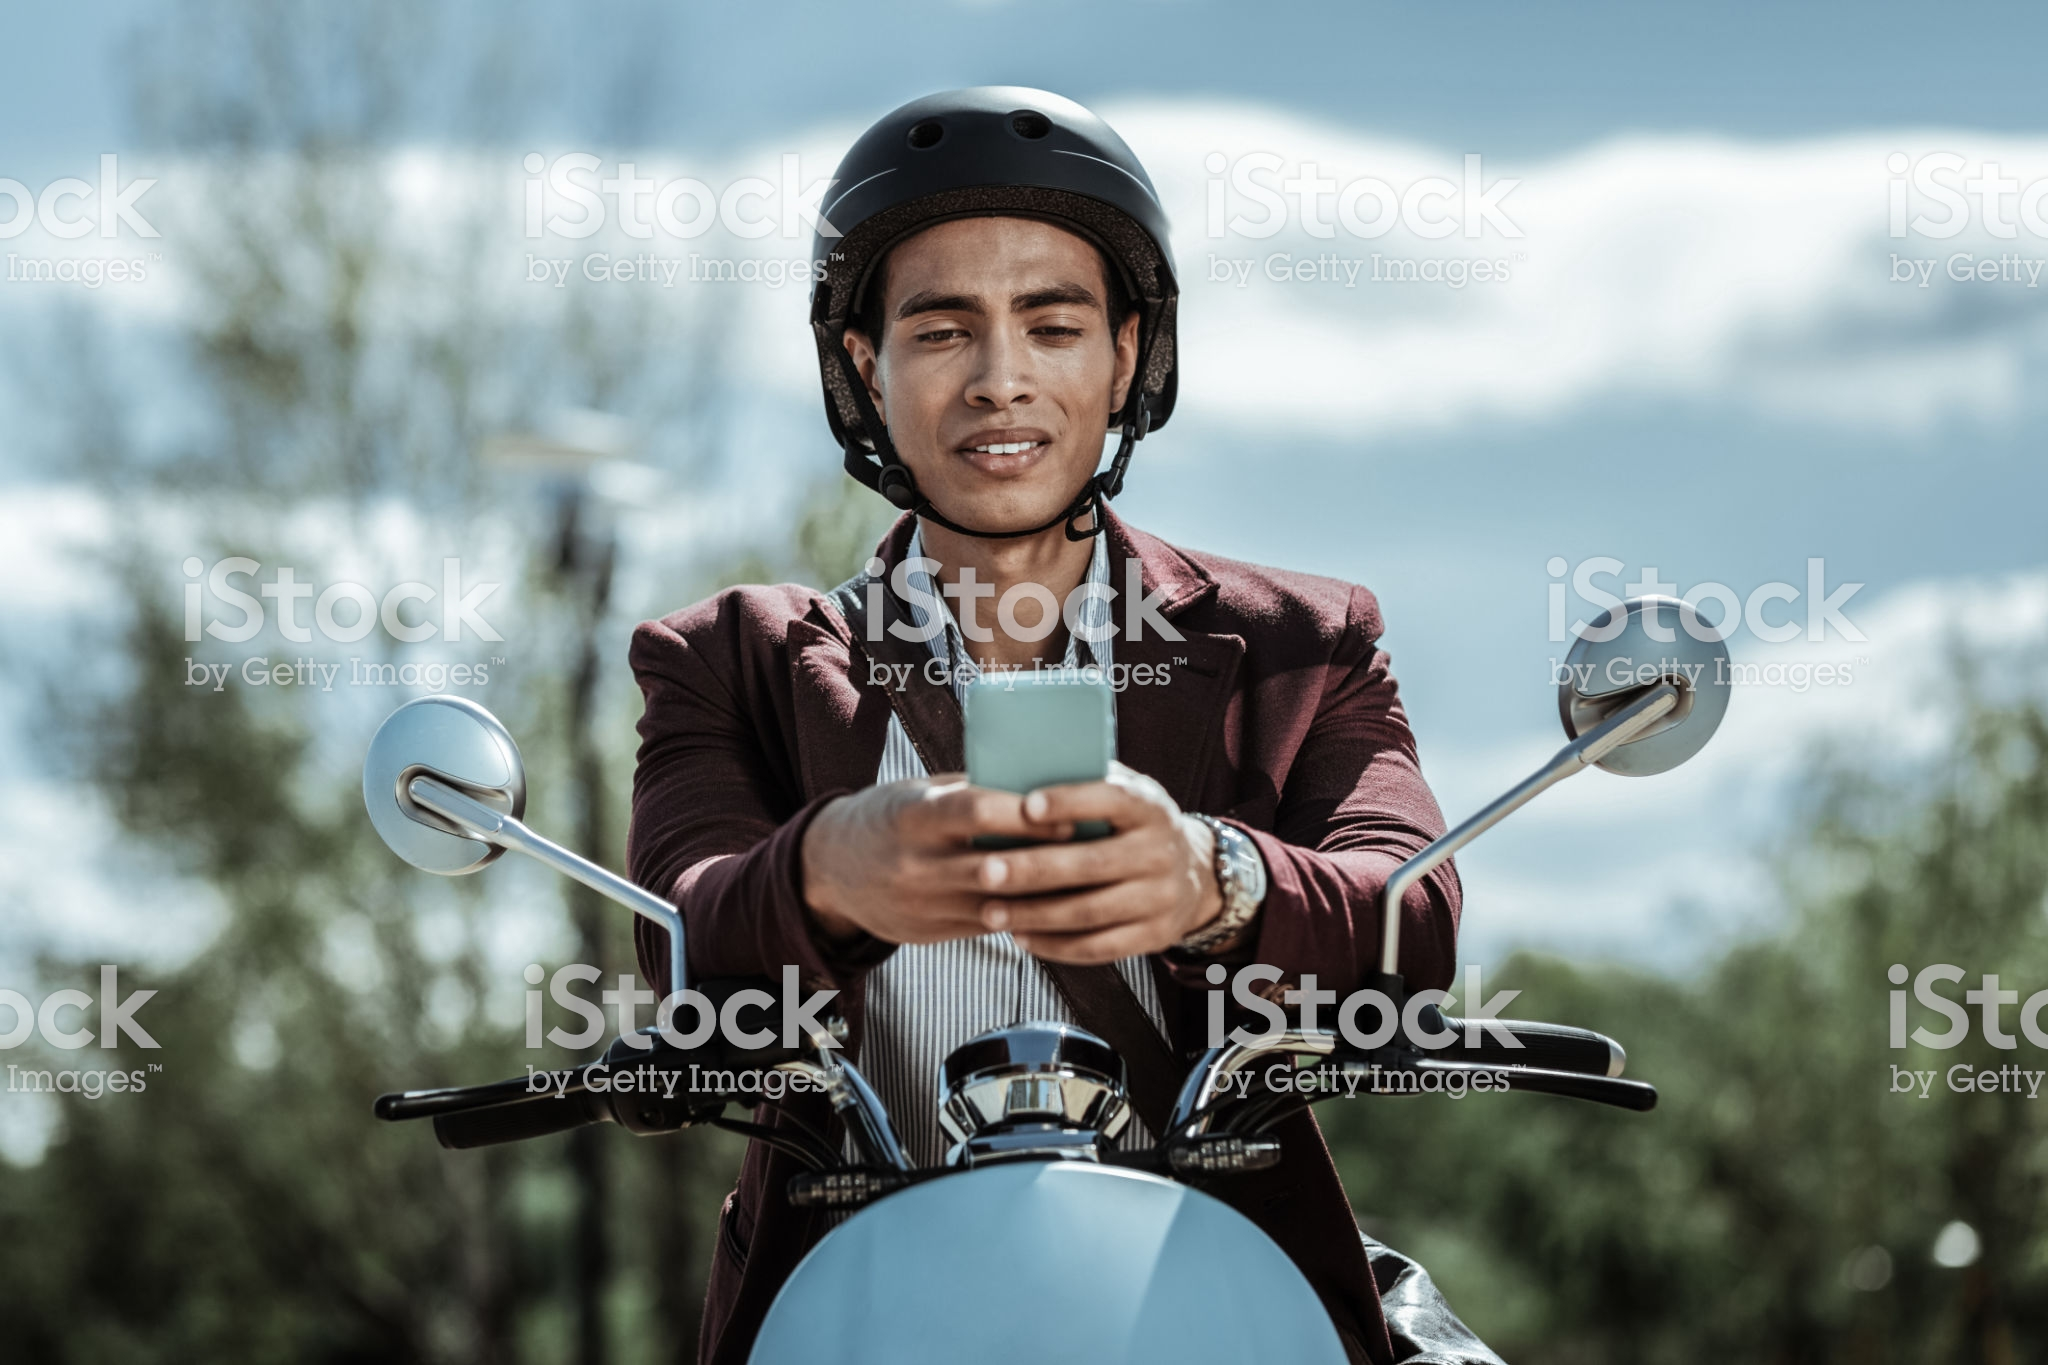helmet: (804, 91, 1221, 300)
